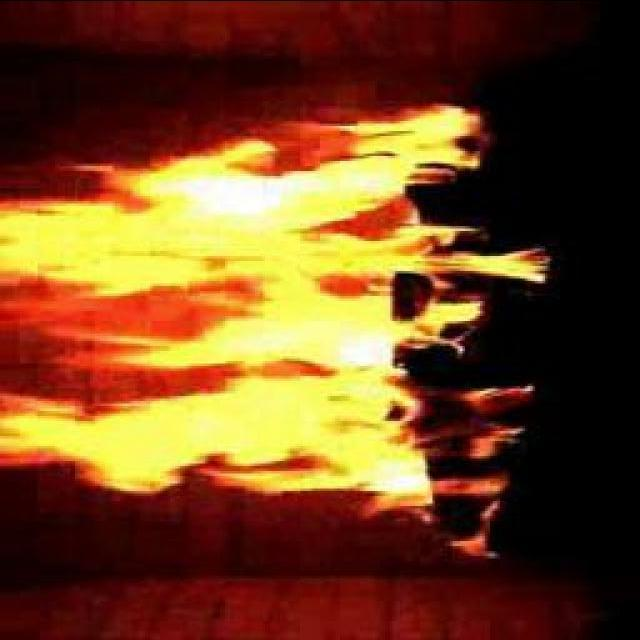Fire: (30, 123, 470, 506)
